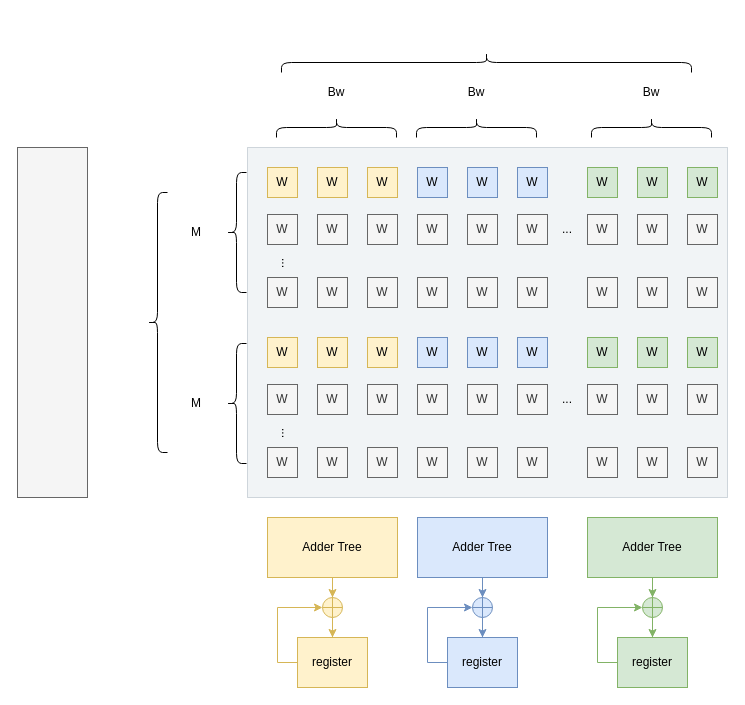
Some shapes in this 745 by 705 pixel diagram are drawn without their labels. The box of each missing label's shape, as (x1, y1, x2, y2) in pixels:
Dcol: (280, 52, 692, 72)
Drow: (146, 192, 168, 452)
Input Register: (16, 146, 88, 498)
